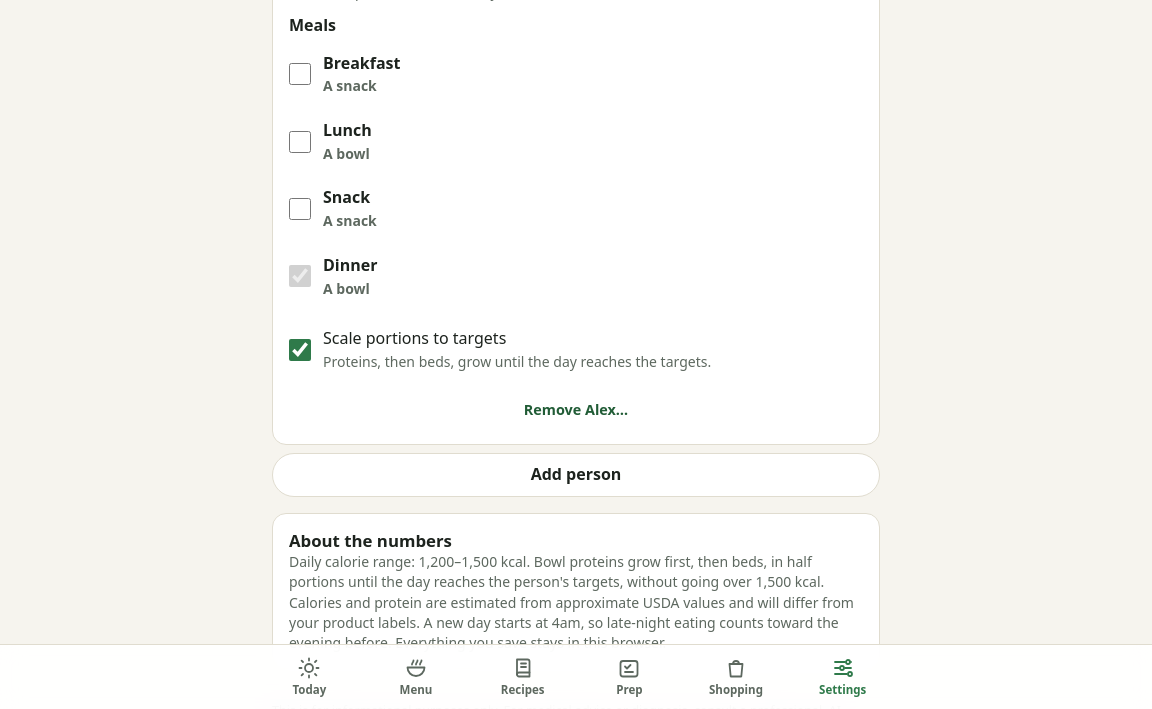
People › turns off scaling for one person
(page scrolled)
Click the checkbox labelled "Scale portions to targets": (300,350) [289,338,311,360]
(page scrolled)
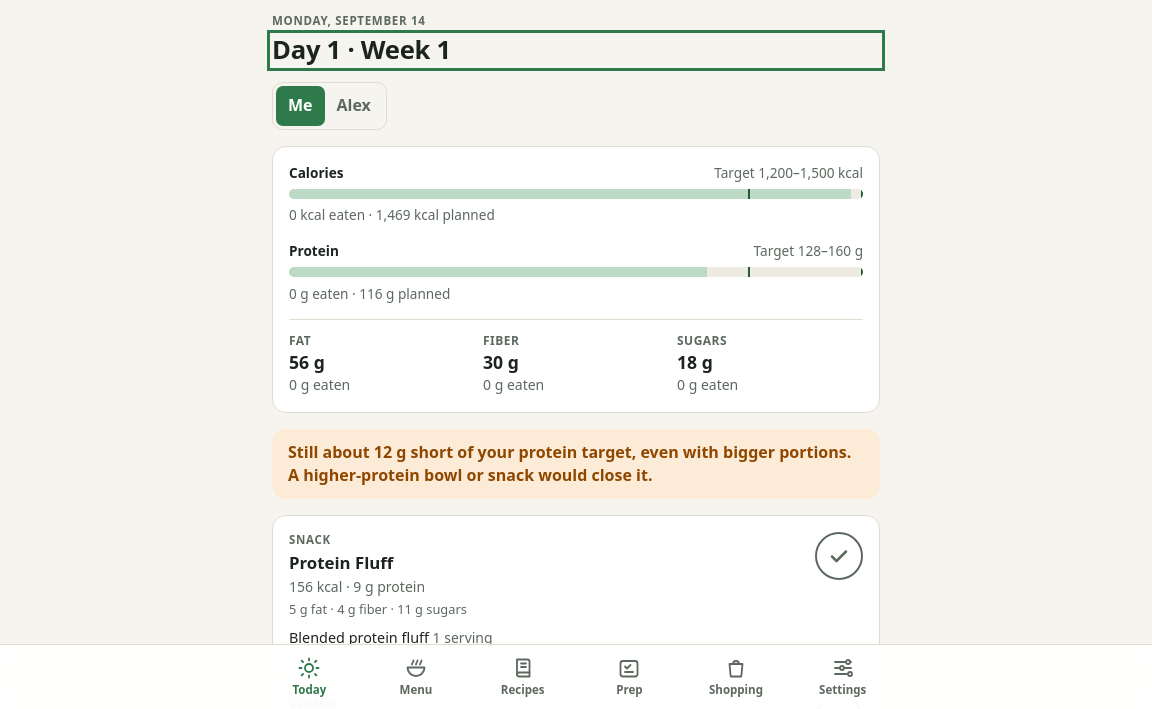
Click the radio button labelled "Alex": (354,105) [336,94,371,116]
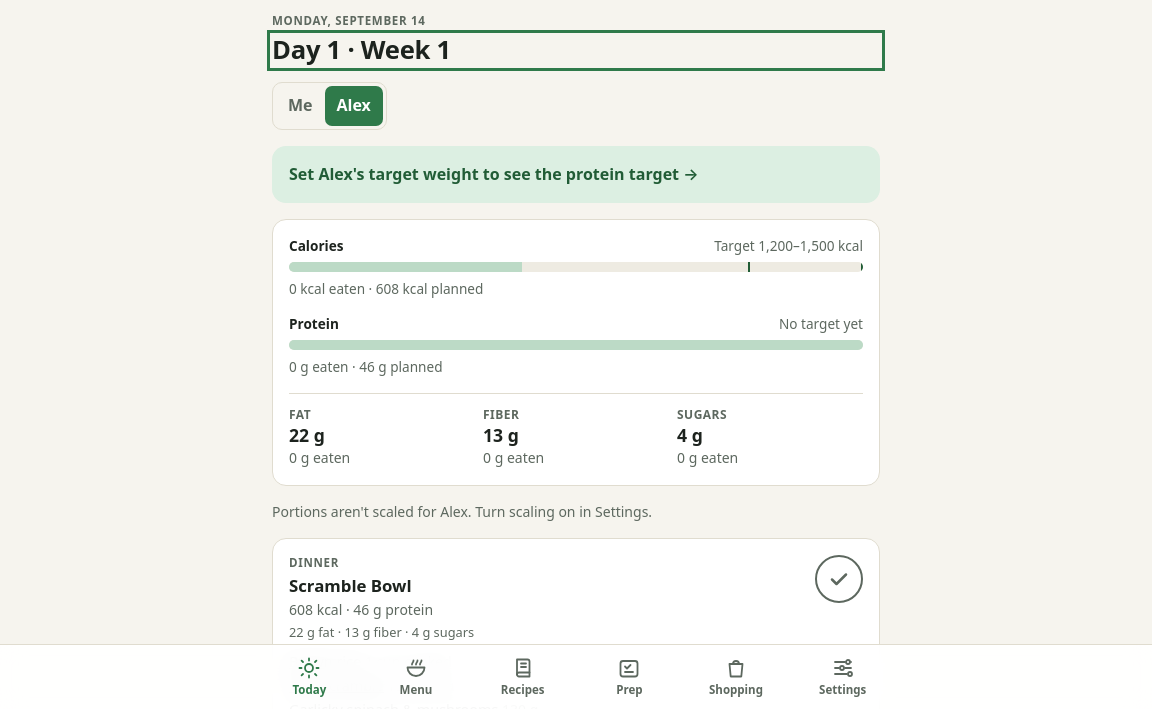
Check: the text "Portions aren't scaled for Alex. Turn scaling on in Settings." is shown, box [272,502,652,521]
